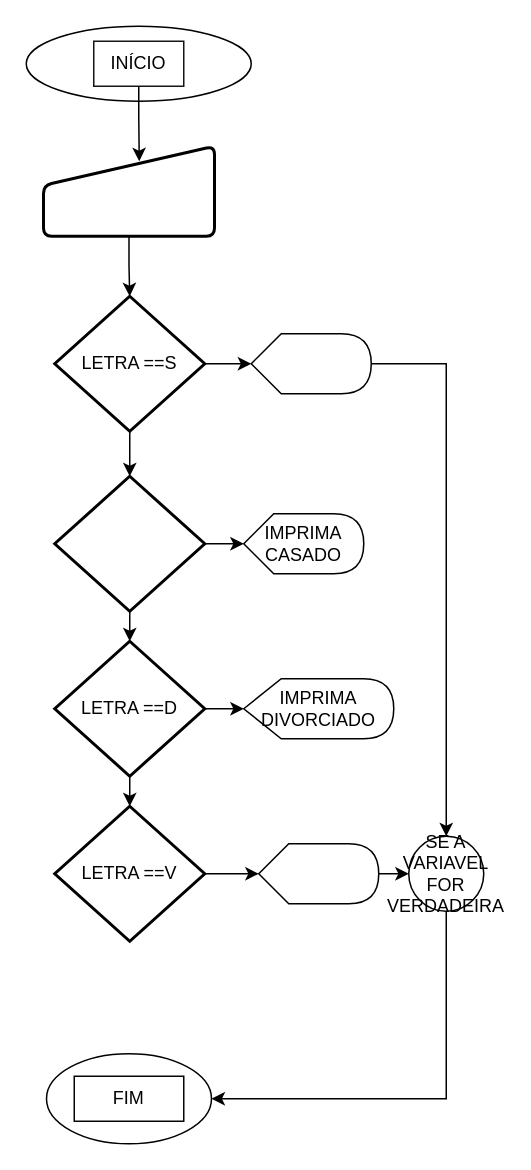
The diagram is 531 pixels wide and 1170 high, and some of its shapes have lost their labels. Each missing label, with the centre of its shape:
IMPRIMA SOLTEIRO: pixel 310 363
IMPRIMA VIUVO: pixel 318 873
LEITURA VARIAVEL LETRA: pixel 128 190
LETRA ==C: pixel 129 543
